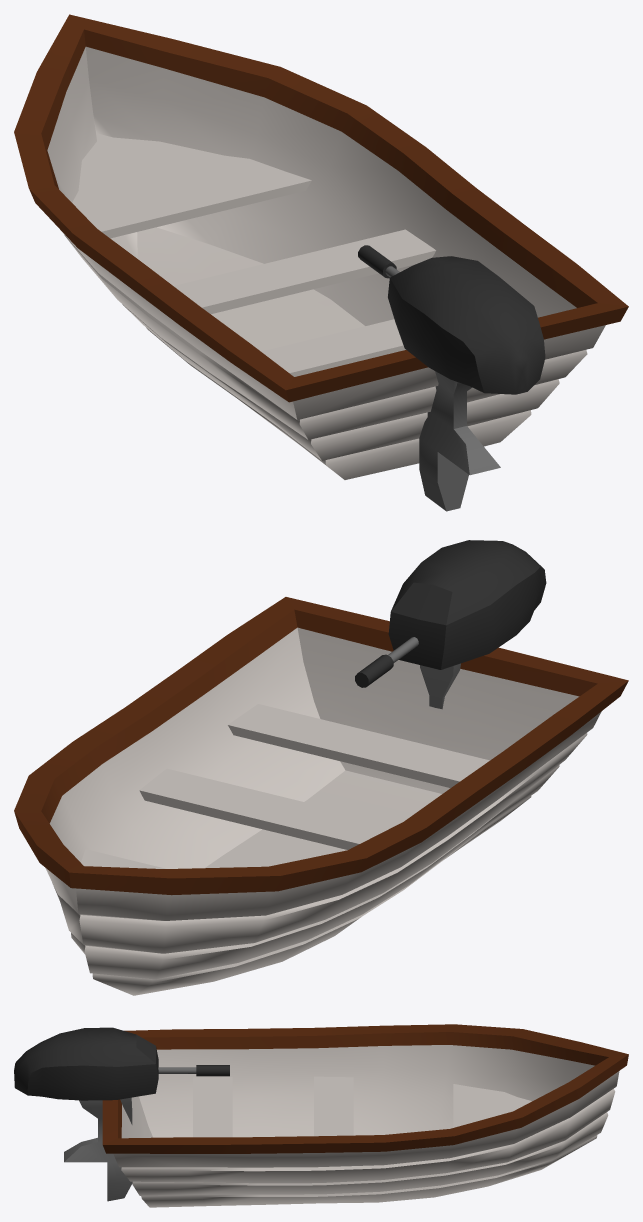
The model's file is SmallBoat.fbx.
3 views of the same model, one above another, from view 1: azimuth 30°, elevation 25°; view 2: azimuth 150°, elevation 25°; view 3: azimuth 270°, elevation 25° (orthographic). The views are drawn at different scales.
Parts seen in each view (by area): view 1: Small_Bpat; view 2: Small_Bpat; view 3: Small_Bpat.
Part boxes in pixels (x1,y1,x2,y2): Small_Bpat: [14, 14, 628, 511]; Small_Bpat: [14, 540, 628, 995]; Small_Bpat: [14, 1024, 628, 1207].
Bounding box in the file's own units: 174 × 113 × 386.
